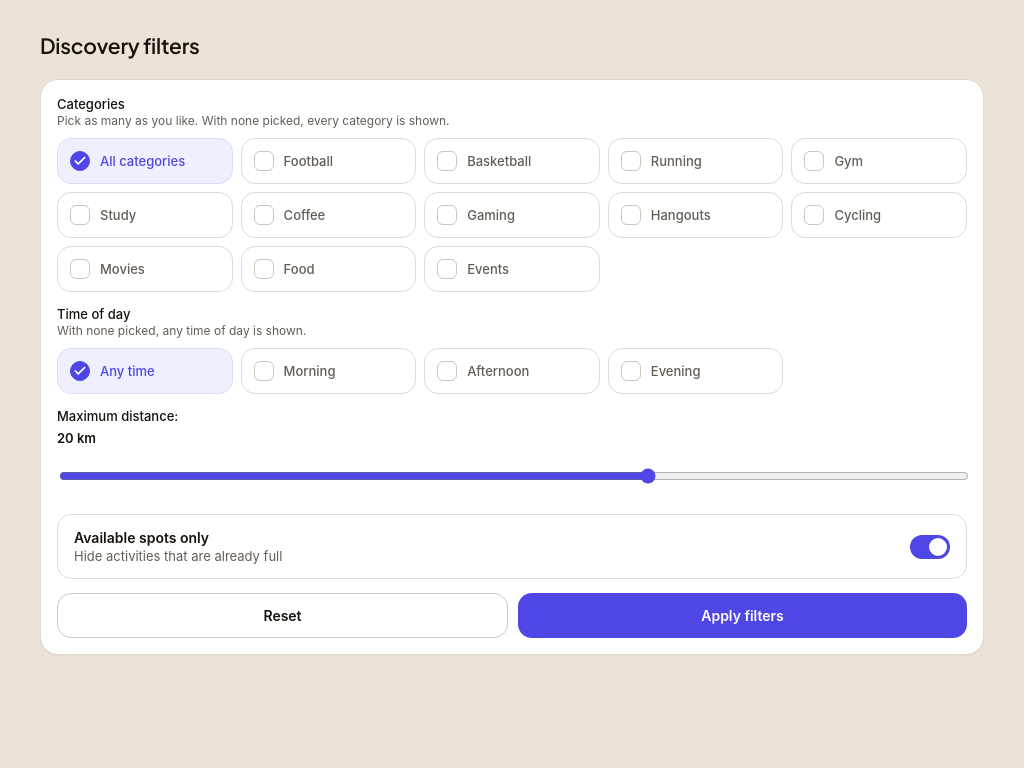
choices toggle on their own — no modifier keys — and a chosen one shows its mark
Click the checkbox labelled "Football".
click(328, 161)  # box [241,138,416,184]
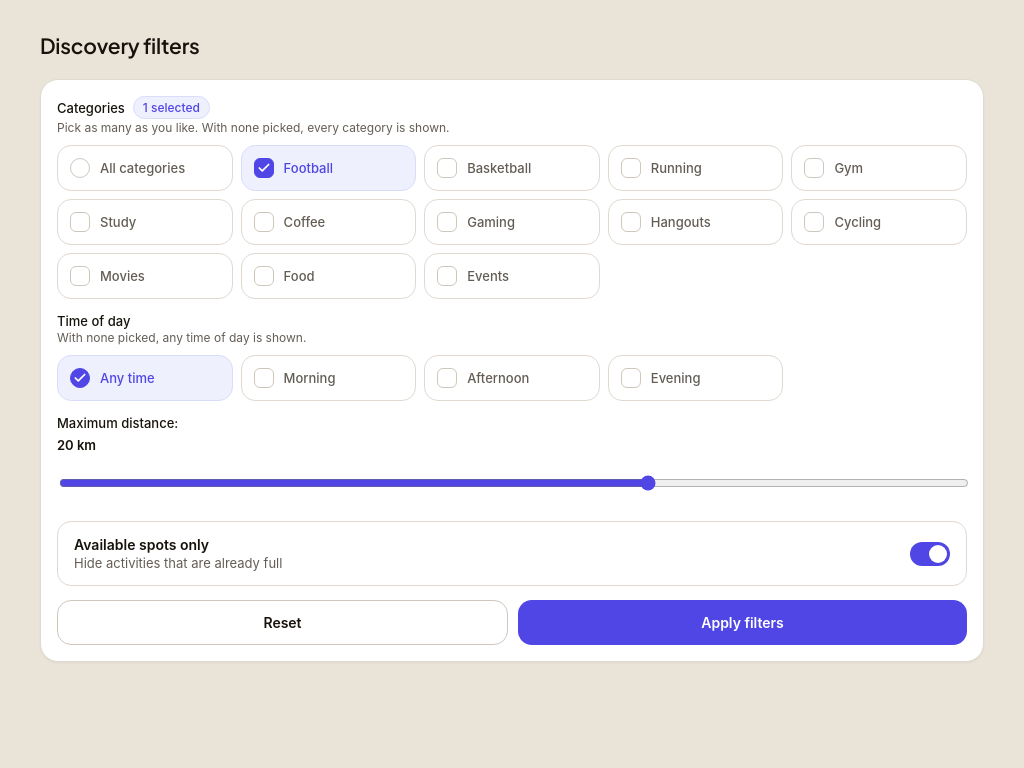
Click the checkbox labelled "Basketball".
click(512, 168)  # box [424,145,600,191]
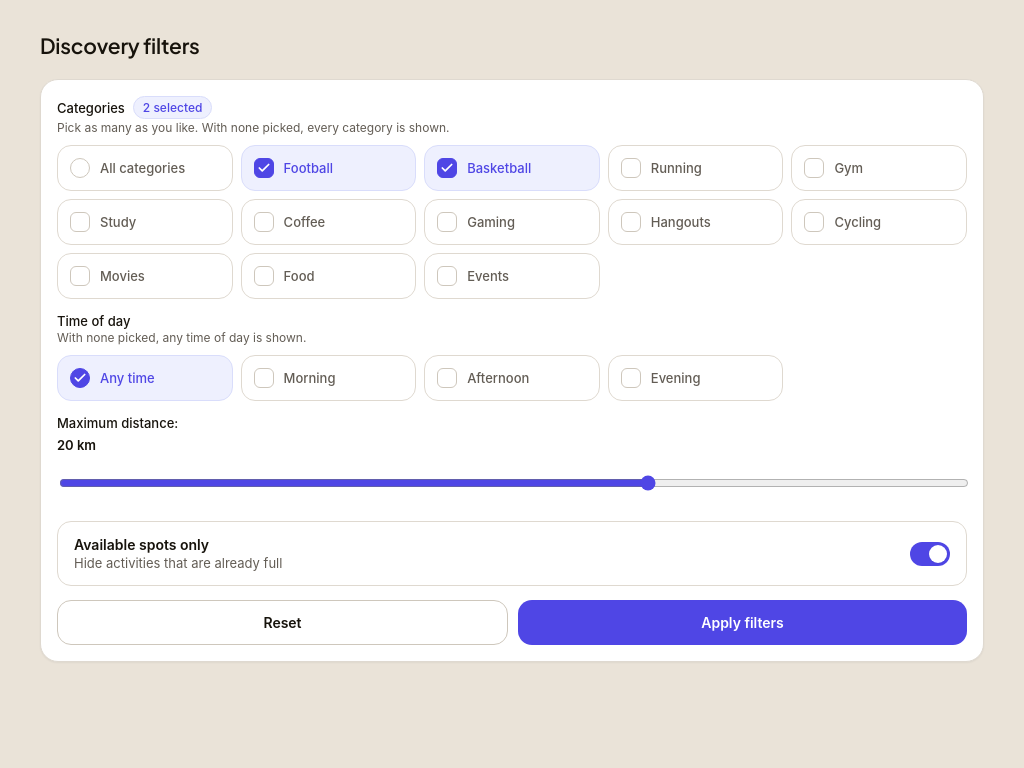
Expected: the button "All categories" is shown, [57,145,233,191]
Expected: the element "Categories" shows "2 selected", [143,100,202,115]
…and a second click on a choice takes it back out.
Click the checkbox labelled "Football".
click(328, 168)  # box [241,145,416,191]
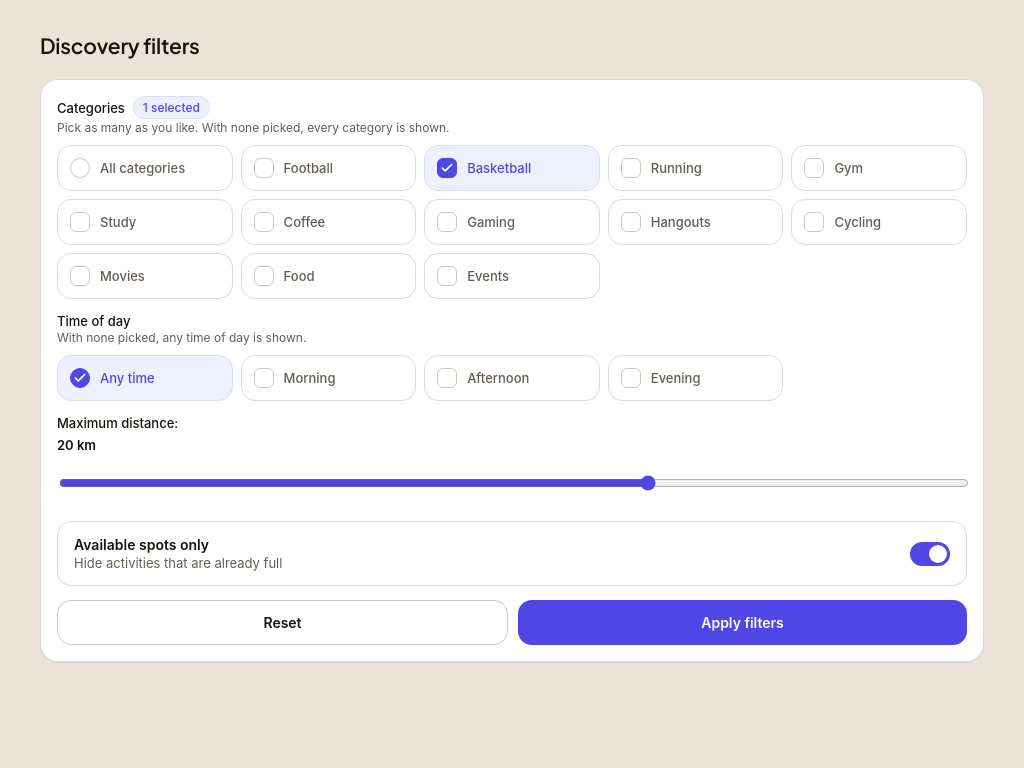
Expected: the element "Categories" shows "1 selected", [143,100,200,115]
